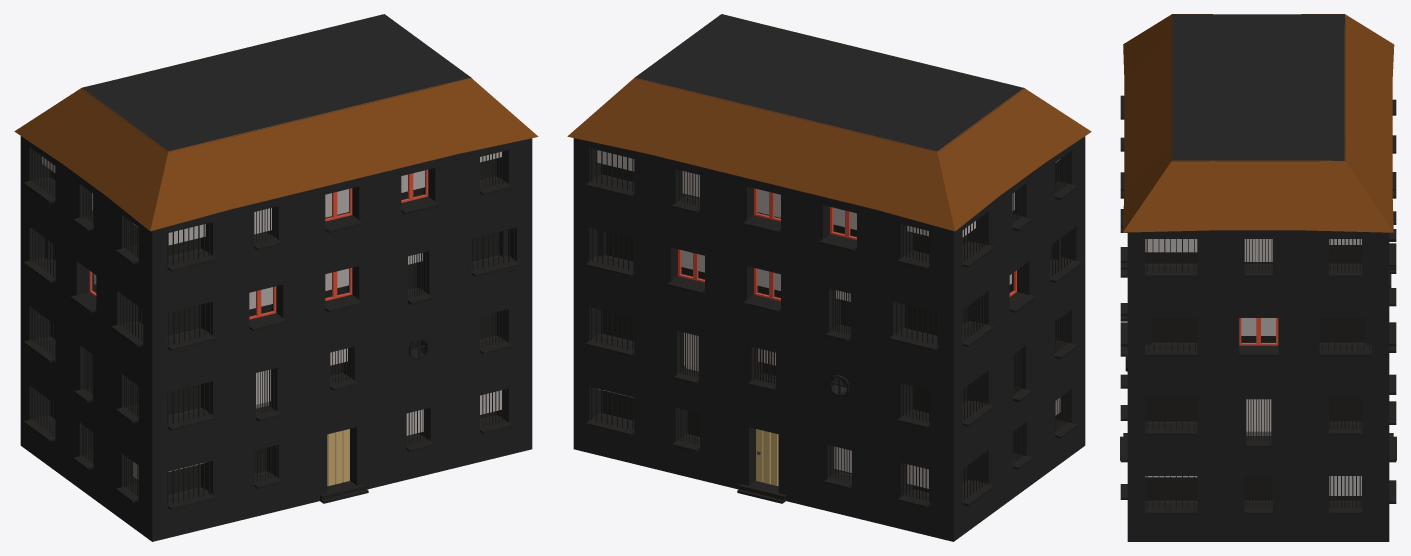
Rendered from Casa_Procedural_17.fbx.
3 views of the same model, side by side, from view 1: azimuth 30°, elevation 25°; view 2: azimuth 150°, elevation 25°; view 3: azimuth 270°, elevation 25° (orthographic).
Parts seen in each view (by area): view 1: 17; view 2: 17; view 3: 17.
Part boxes in pixels (x1,y1,x2,y2): 17: (14,14,538,541); 17: (567,14,1091,541); 17: (1120,14,1396,541).
Bounding box in the file's own units: 516 × 459 × 318.
